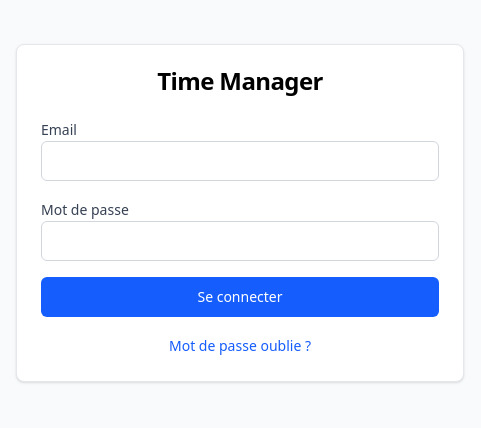
Test case: LoginPage › Form Validation › shows validation error when email is empty
The image size is (481, 428).
Click the button "Se connecter" at (240, 297), box [41, 277, 439, 317]
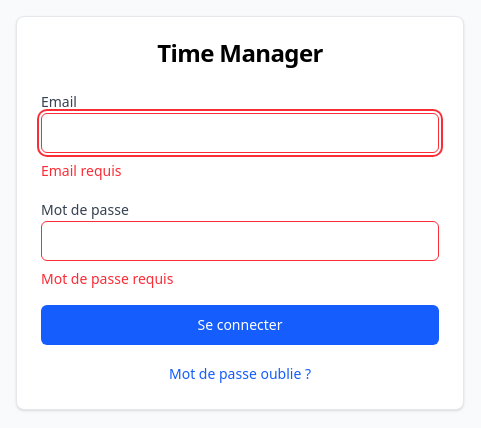
expect the text "Email requis" is shown: met, box [41, 161, 122, 180]
